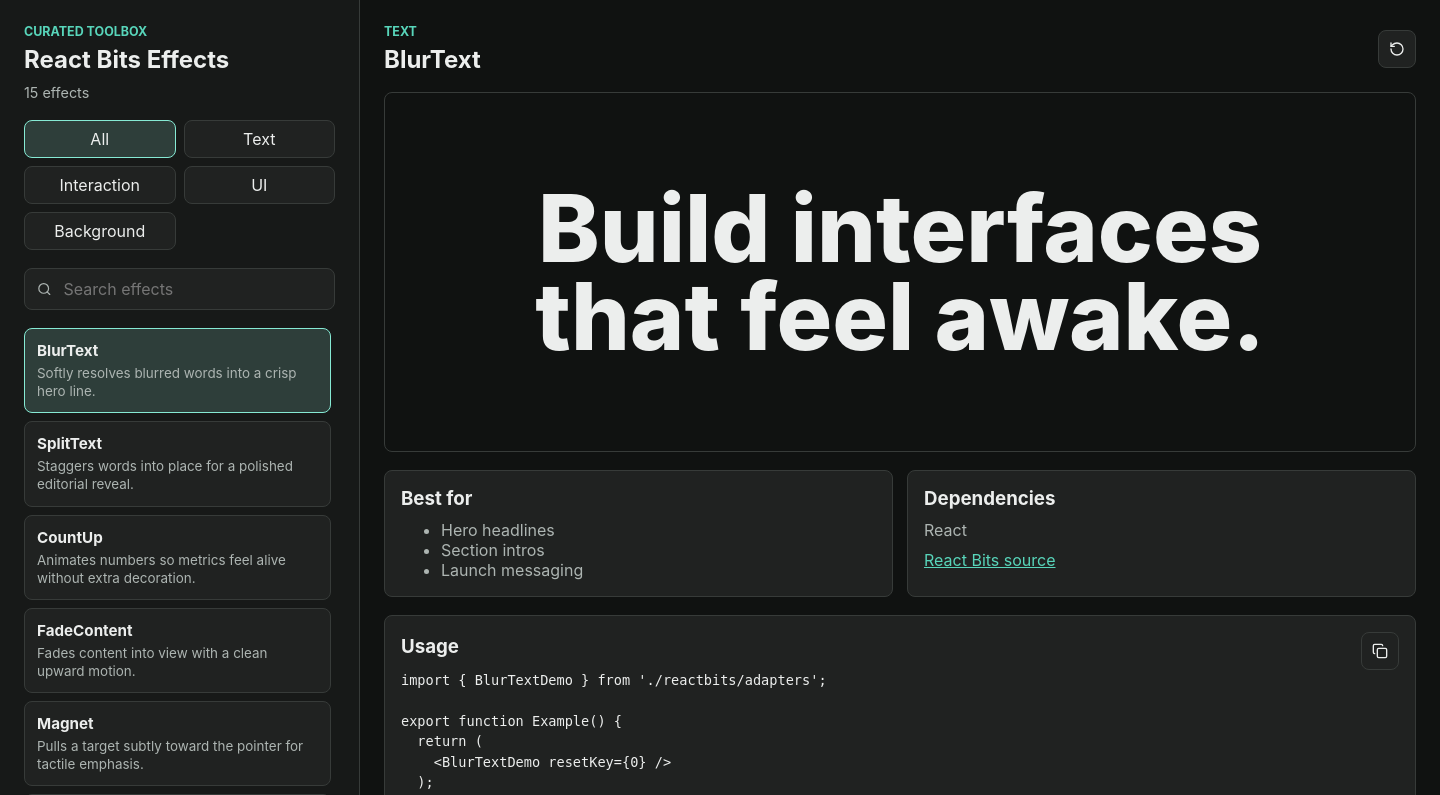
Test: EffectLab › renders the curated pack and selects an effect
The image size is (1440, 795).
Expected: the heading "React Bits Effects" is shown, [24, 45, 229, 74]
Expected: the text "15 effects" is shown, [24, 84, 89, 101]
Click the button "UI".
click(259, 185)  # box [184, 166, 335, 204]
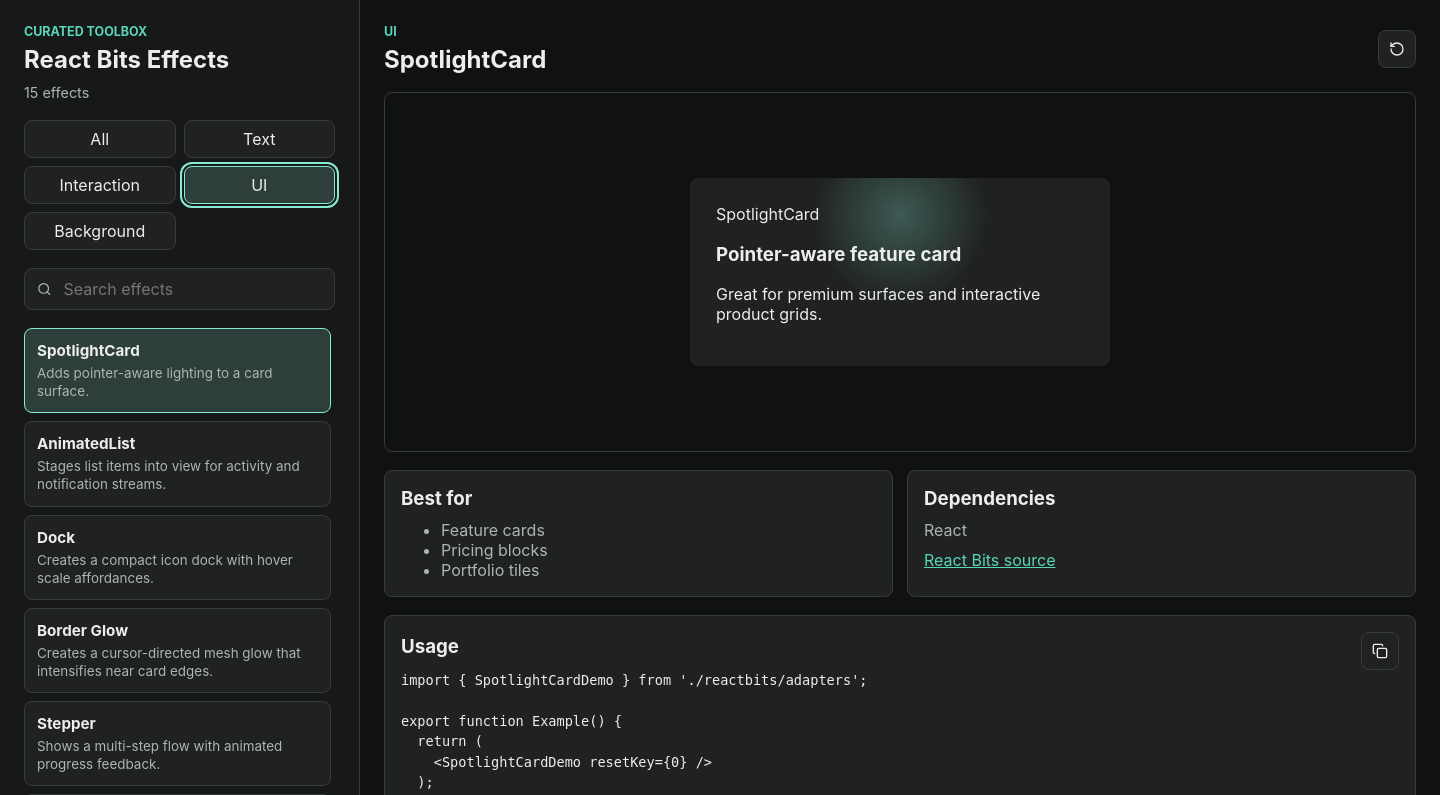
Click the button "Border Glow".
click(178, 650)  # box [24, 608, 331, 693]
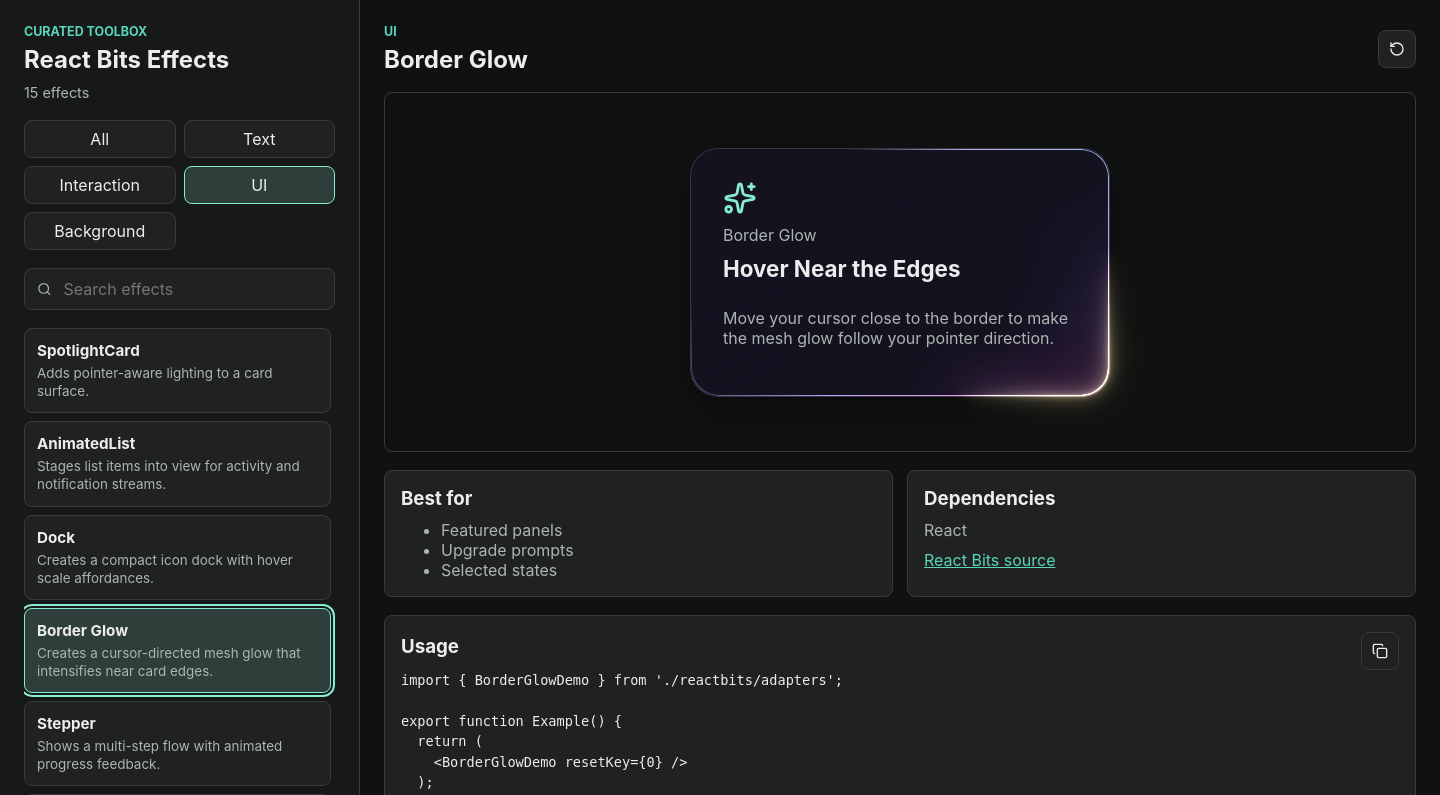
Expected: the text "cursor-directed mesh glow" is shown, [37, 645, 301, 679]
Expected: the heading "Border Glow" is shown, [384, 45, 528, 74]
